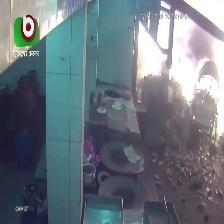fire: (166, 1, 224, 144), (138, 21, 170, 87)
